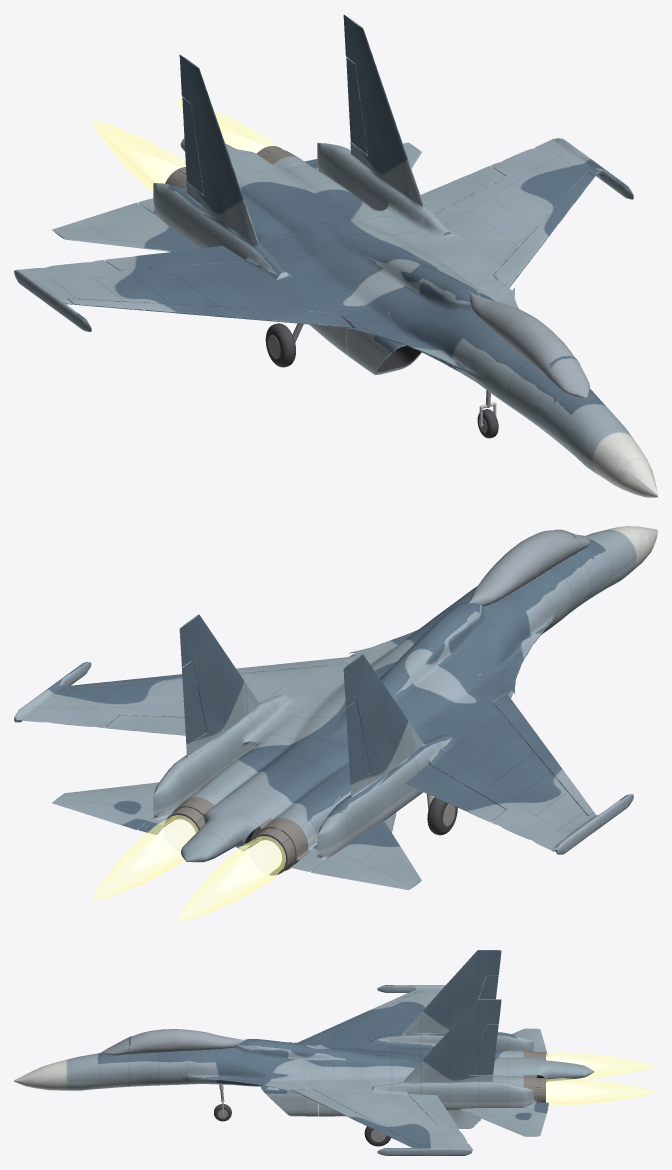
3 renders of one model, top to bottom at view 1: azimuth 30°, elevation 25°; view 2: azimuth 150°, elevation 25°; view 3: azimuth 270°, elevation 25°, orthographic. The views are drawn at different scales.
Visible parts, largest first — view 1: airframe, fsim:lef@-2,30 (×2), fsim:elevator+aileron:-0.4@-20,15, fsim:afterburner:1, fsim:rudder (×2), fsim:aileron+flaps:-1@-20,20, fsim:aileron+flaps:1@-20,20, fsim:afterburner:0, fsim:wheel:2:0.515; view 2: airframe, fsim:afterburner:1, fsim:elevator+aileron:-0.4@-20,15, fsim:afterburner:0, fsim:lef@-2,30 (×2), fsim:elevator+aileron:0.4@-20,15, fsim:rudder (×2), fsim:aileron+flaps:-1@-20,20, fsim:aileron+flaps:1@-20,20, fsim:wheel:2:0.515; view 3: airframe, fsim:afterburner:0, fsim:lef@-2,30 (×2), fsim:elevator+aileron:0.4@-20,15, fsim:afterburner:1, fsim:rudder (×2), fsim:aileron+flaps:1@-20,20, fsim:elevator+aileron:-0.4@-20,15, fsim:wheel:1:0.515.
Boxes of the visible parts, x1,y1,x2,y2 form: airframe: [14, 14, 657, 497]; fsim:lef@-2,30 (×2): [68, 172, 594, 327]; fsim:elevator+aileron:-0.4@-20,15: [52, 202, 198, 251]; fsim:afterburner:1: [91, 120, 185, 192]; fsim:rudder (×2): [182, 57, 367, 195]; fsim:aileron+flaps:-1@-20,20: [105, 245, 244, 270]; fsim:aileron+flaps:1@-20,20: [420, 166, 505, 213]; fsim:afterburner:0: [177, 100, 275, 153]; fsim:wheel:2:0.515: [265, 323, 295, 367]; airframe: [14, 526, 657, 871]; fsim:afterburner:1: [177, 836, 285, 921]; fsim:elevator+aileron:-0.4@-20,15: [311, 820, 421, 890]; fsim:afterburner:0: [91, 815, 198, 900]; fsim:lef@-2,30 (×2): [68, 657, 594, 815]; fsim:elevator+aileron:0.4@-20,15: [52, 782, 158, 830]; fsim:rudder (×2): [182, 661, 370, 785]; fsim:aileron+flaps:-1@-20,20: [405, 764, 505, 821]; fsim:aileron+flaps:1@-20,20: [105, 715, 185, 735]; fsim:wheel:2:0.515: [427, 797, 457, 835]; airframe: [14, 950, 594, 1155]; fsim:afterburner:0: [546, 1078, 657, 1105]; fsim:lef@-2,30 (×2): [294, 990, 419, 1147]; fsim:elevator+aileron:0.4@-20,15: [460, 1107, 547, 1136]; fsim:afterburner:1: [546, 1052, 657, 1078]; fsim:rudder (×2): [470, 975, 498, 1075]; fsim:aileron+flaps:1@-20,20: [408, 1094, 457, 1126]; fsim:elevator+aileron:-0.4@-20,15: [511, 1028, 547, 1056]; fsim:wheel:1:0.515: [364, 1126, 390, 1146].
Size of the model in its own units: 14.68 by 6.11 by 24.31.
Materials: 9 (1 with a texture image).
